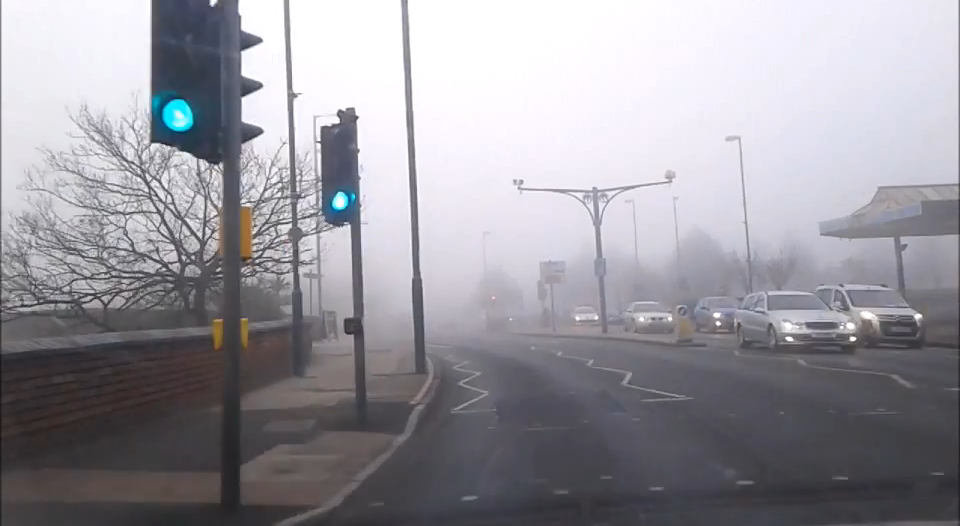car: (810, 279, 928, 349), (734, 289, 859, 352), (691, 293, 750, 331), (616, 300, 675, 335), (566, 303, 599, 326)
